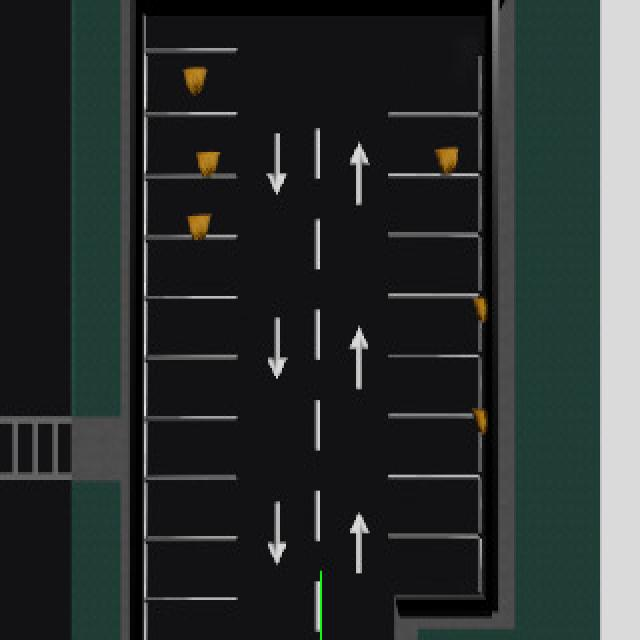Garbage: (181, 64, 211, 99), (432, 146, 462, 177), (185, 212, 213, 244), (194, 147, 220, 180), (468, 402, 489, 439), (468, 292, 489, 328)
